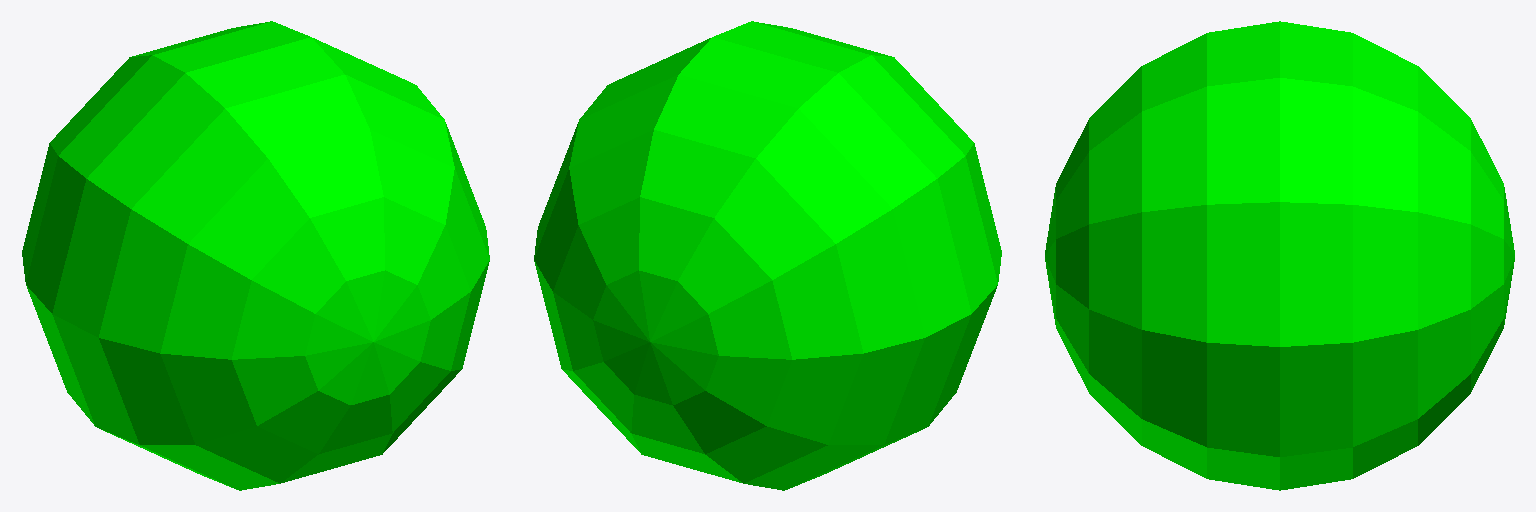
Rendered from ball.obj.
The picture shows the model from 3 angles: view 1: azimuth 30°, elevation 25°; view 2: azimuth 150°, elevation 25°; view 3: azimuth 270°, elevation 25°; orthographic projection.
Bounding box in the file's own units: 347 × 334 × 347.